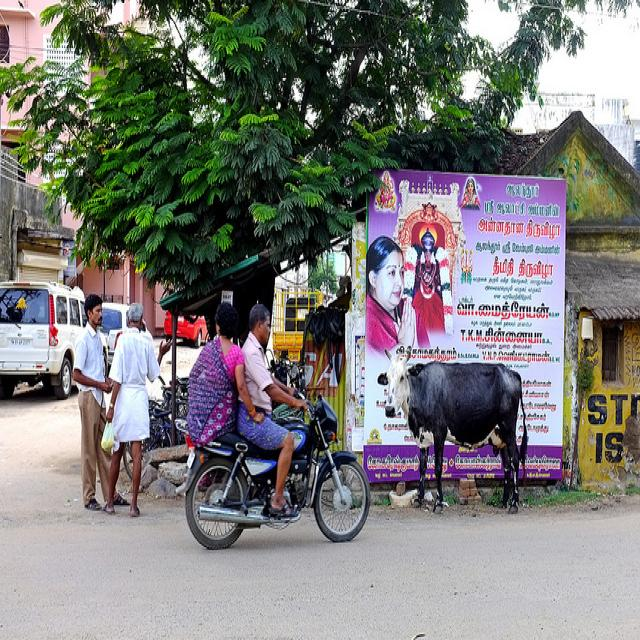motor: (176, 385, 372, 549)
